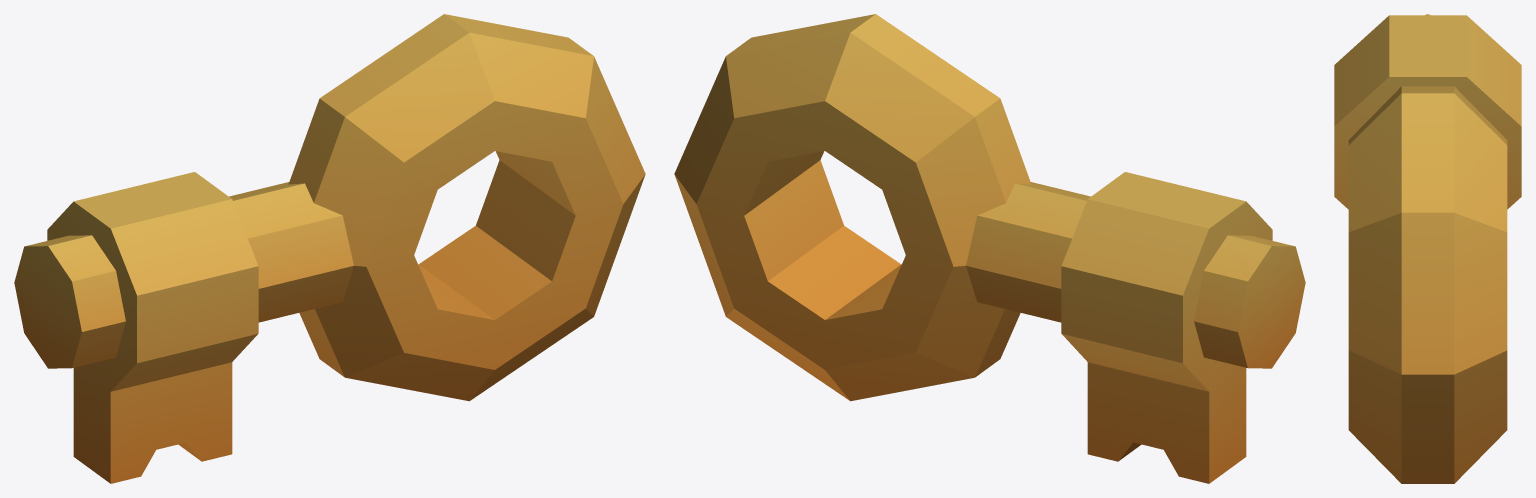
The model's file is key.glb.
3 renders of one model, left to right at view 1: azimuth 30°, elevation 25°; view 2: azimuth 150°, elevation 25°; view 3: azimuth 270°, elevation 25°, orthographic. The views are drawn at different scales.
Parts seen in each view (by area): view 1: geometry_0; view 2: geometry_0; view 3: geometry_0.
Part boxes in pixels (x1=…): geometry_0: x1=14, y1=14, x2=645, y2=483; geometry_0: x1=674, y1=14, x2=1305, y2=483; geometry_0: x1=1334, y1=14, x2=1521, y2=483.
Size of the model in its own units: 1.1 by 0.6627 by 0.2931.
